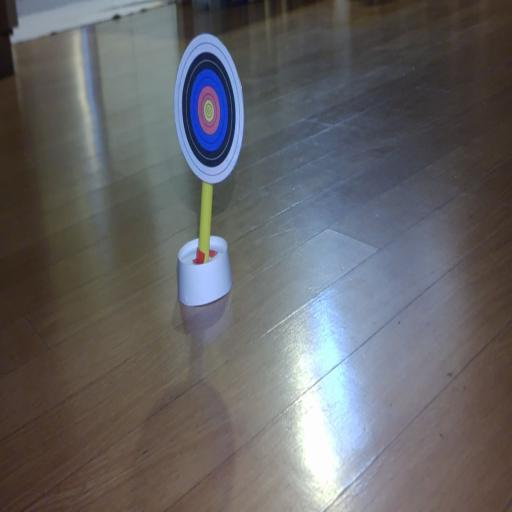target: (174, 34, 244, 183)
